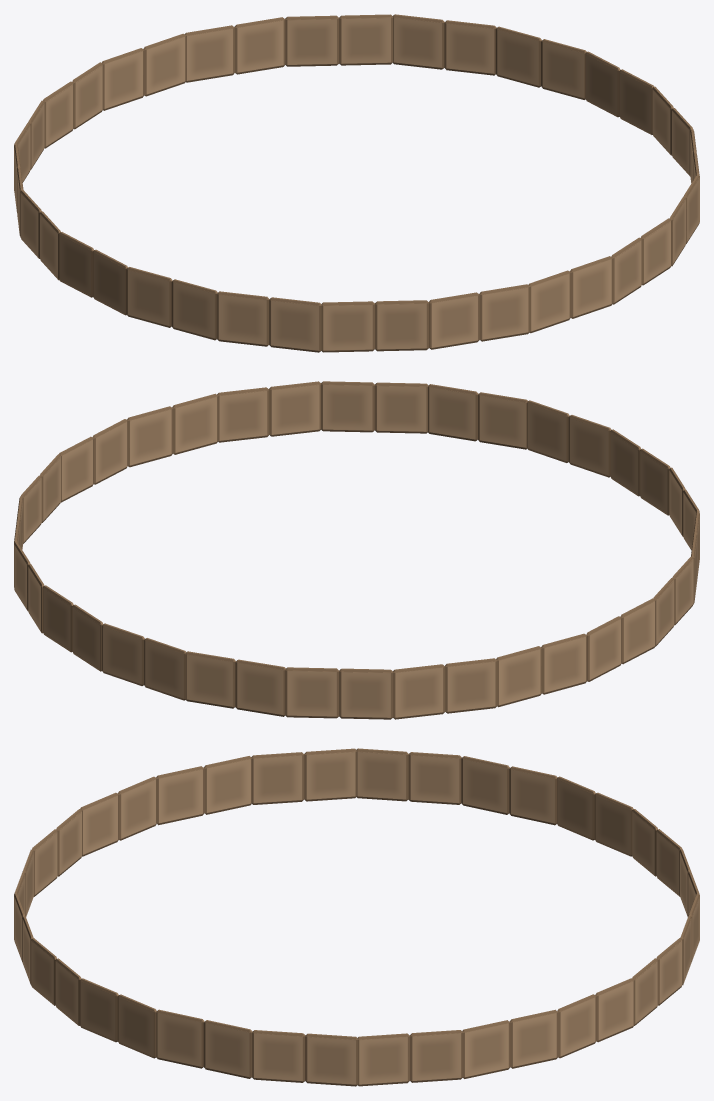
File: FenceCube.fbx
3 views of the same model, one above another, from view 1: azimuth 30°, elevation 25°; view 2: azimuth 150°, elevation 25°; view 3: azimuth 270°, elevation 25° (orthographic).
Parts seen in each view (by area): view 1: Cube; view 2: Cube; view 3: Cube.
Part boxes in pixels (x1,y1,x2,y2): Cube: (14,14,699,352); Cube: (14,381,699,719); Cube: (14,748,699,1086).
Bounding box in the file's own units: 2466 × 194 × 2466.
Materials: 1 (1 with a texture image).
